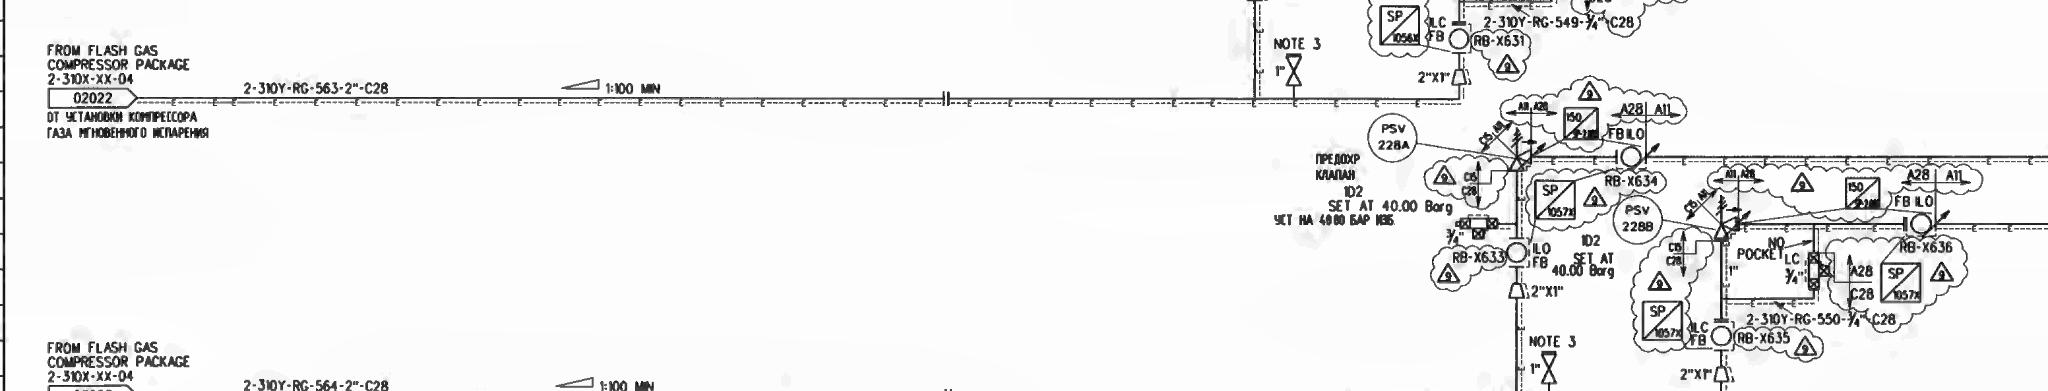2 WAY VALVE: (1802, 246, 1834, 296), (1455, 213, 1503, 242)
ANGLE RELIEF VALVE: (1711, 187, 1742, 248), (1506, 127, 1536, 177)
CONCENTRIC REDUCER: (1446, 65, 1475, 92), (1505, 279, 1529, 303), (1710, 365, 1736, 386)
FIELD INSTRUMENT: (1612, 196, 1665, 247), (1366, 114, 1420, 163), (1707, 320, 1741, 353), (1620, 141, 1647, 171), (1503, 235, 1529, 265), (1443, 25, 1473, 51), (1911, 209, 1934, 235)
GATE VALVE: (1277, 41, 1310, 93), (1536, 343, 1567, 387)
REVISION TRIANGLE: (1492, 47, 1527, 89), (1429, 255, 1469, 289), (1574, 182, 1609, 217), (1573, 75, 1608, 107), (1789, 327, 1819, 365), (1429, 157, 1463, 190), (1929, 255, 1957, 289)
SELF ACTING VALVE: (1780, 167, 1830, 201)
SPECIAL PIPING ITEM: (1369, 1, 1429, 54), (1874, 255, 1927, 309), (1635, 297, 1690, 347), (1529, 177, 1582, 225), (1839, 173, 1886, 214), (1560, 103, 1603, 146)
